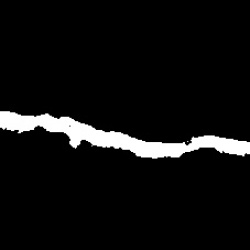crack: (0, 113, 249, 159)
